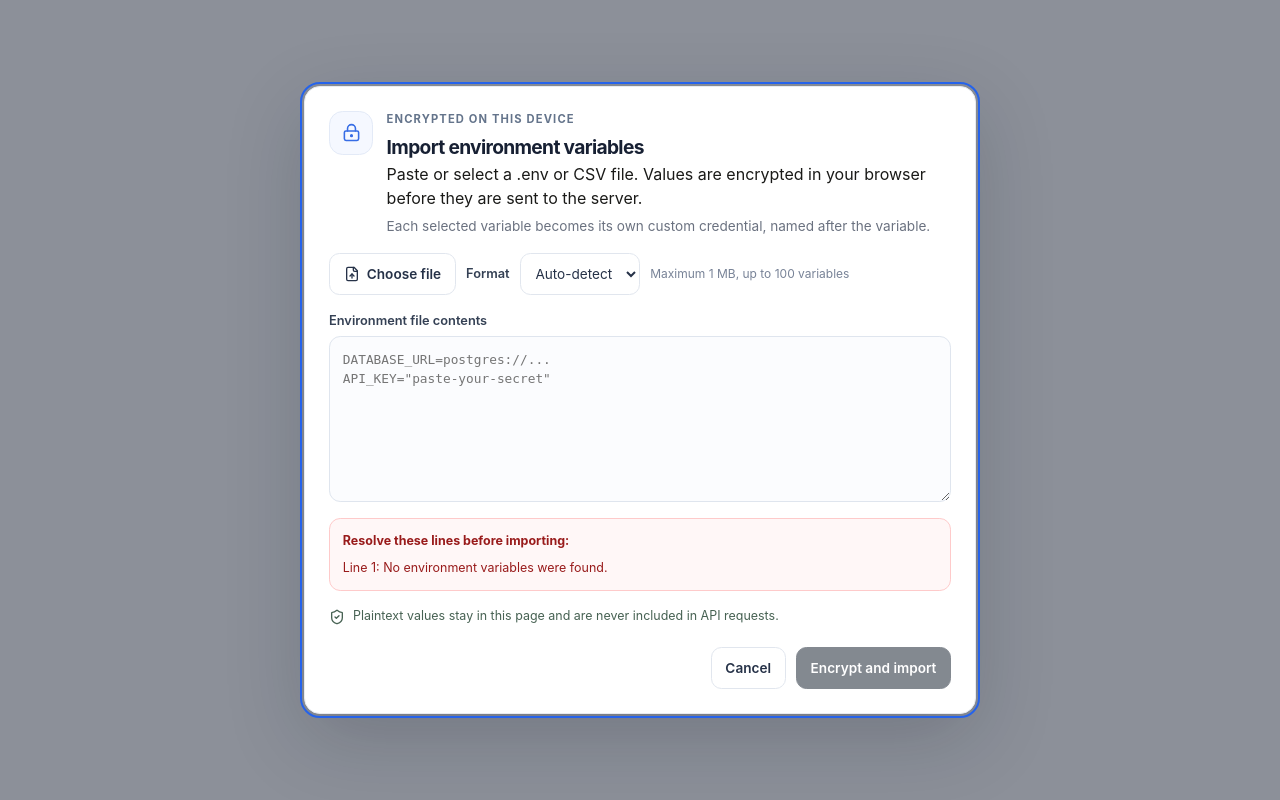
Test: EnvImportDialog › does not send encrypted payloads that exceed the API size limit
This screenshot has width=1280, height=800.
Type "LARGE=value" into the text box labelled "Environment file contents".
click(640, 419); type("LARGE=value")  # box [329,336,951,502]
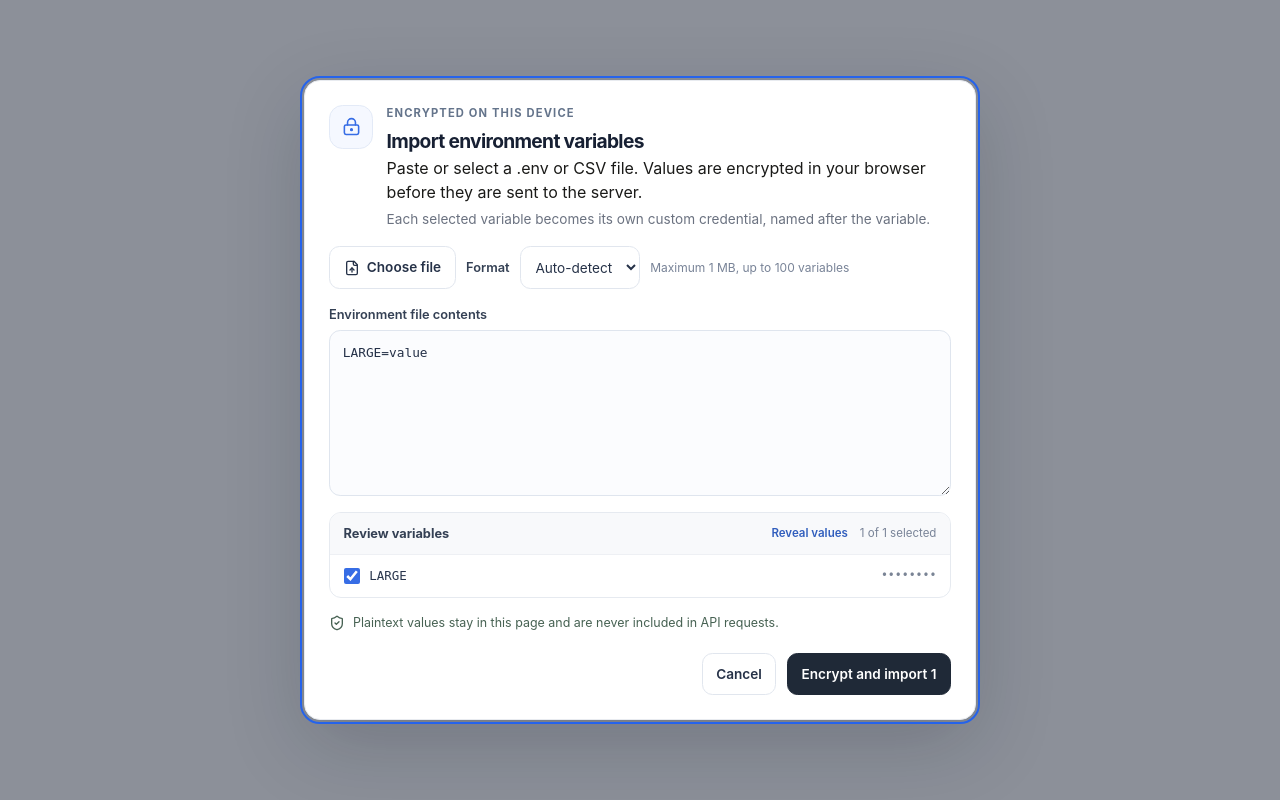
Click the button "Encrypt and import 1".
click(869, 674)  # box [787,653,951,696]
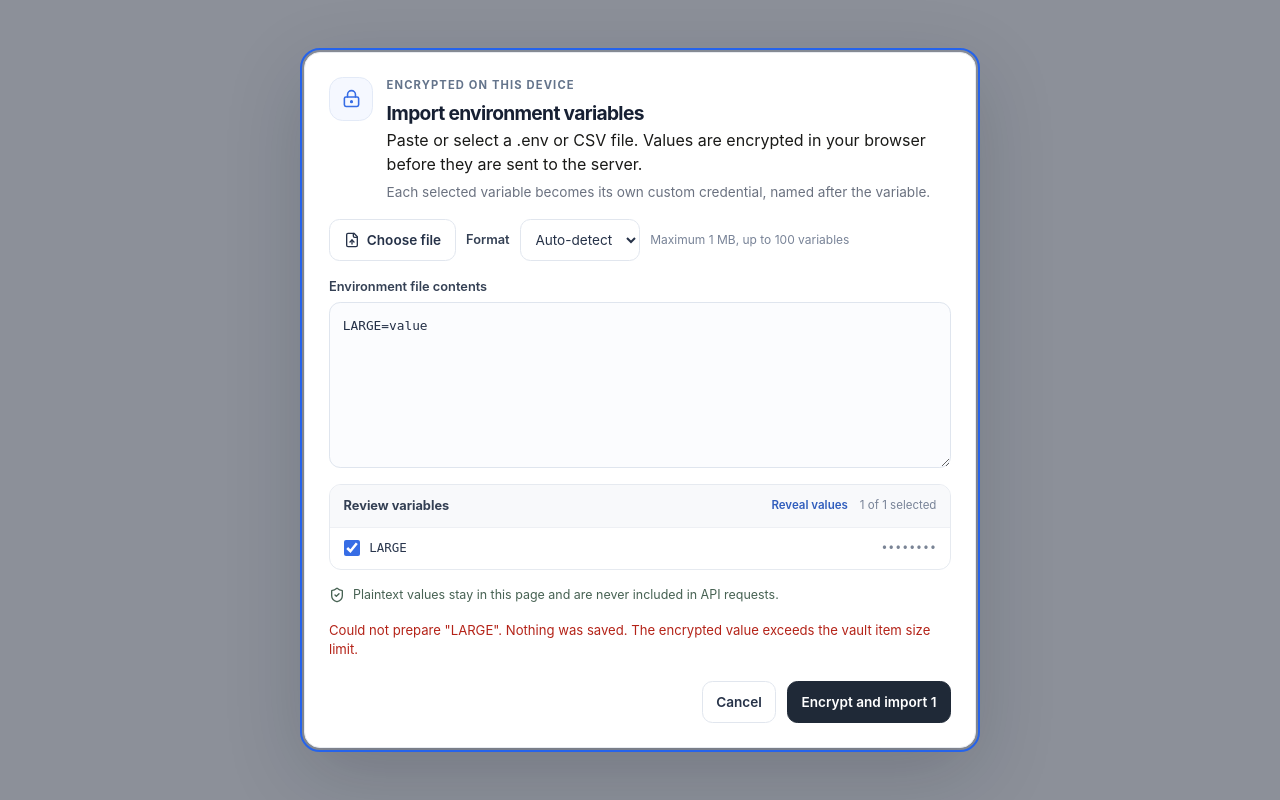
Expected: the message shows "The encrypted value exceeds the vault item size limit", [329,622,930,657]
